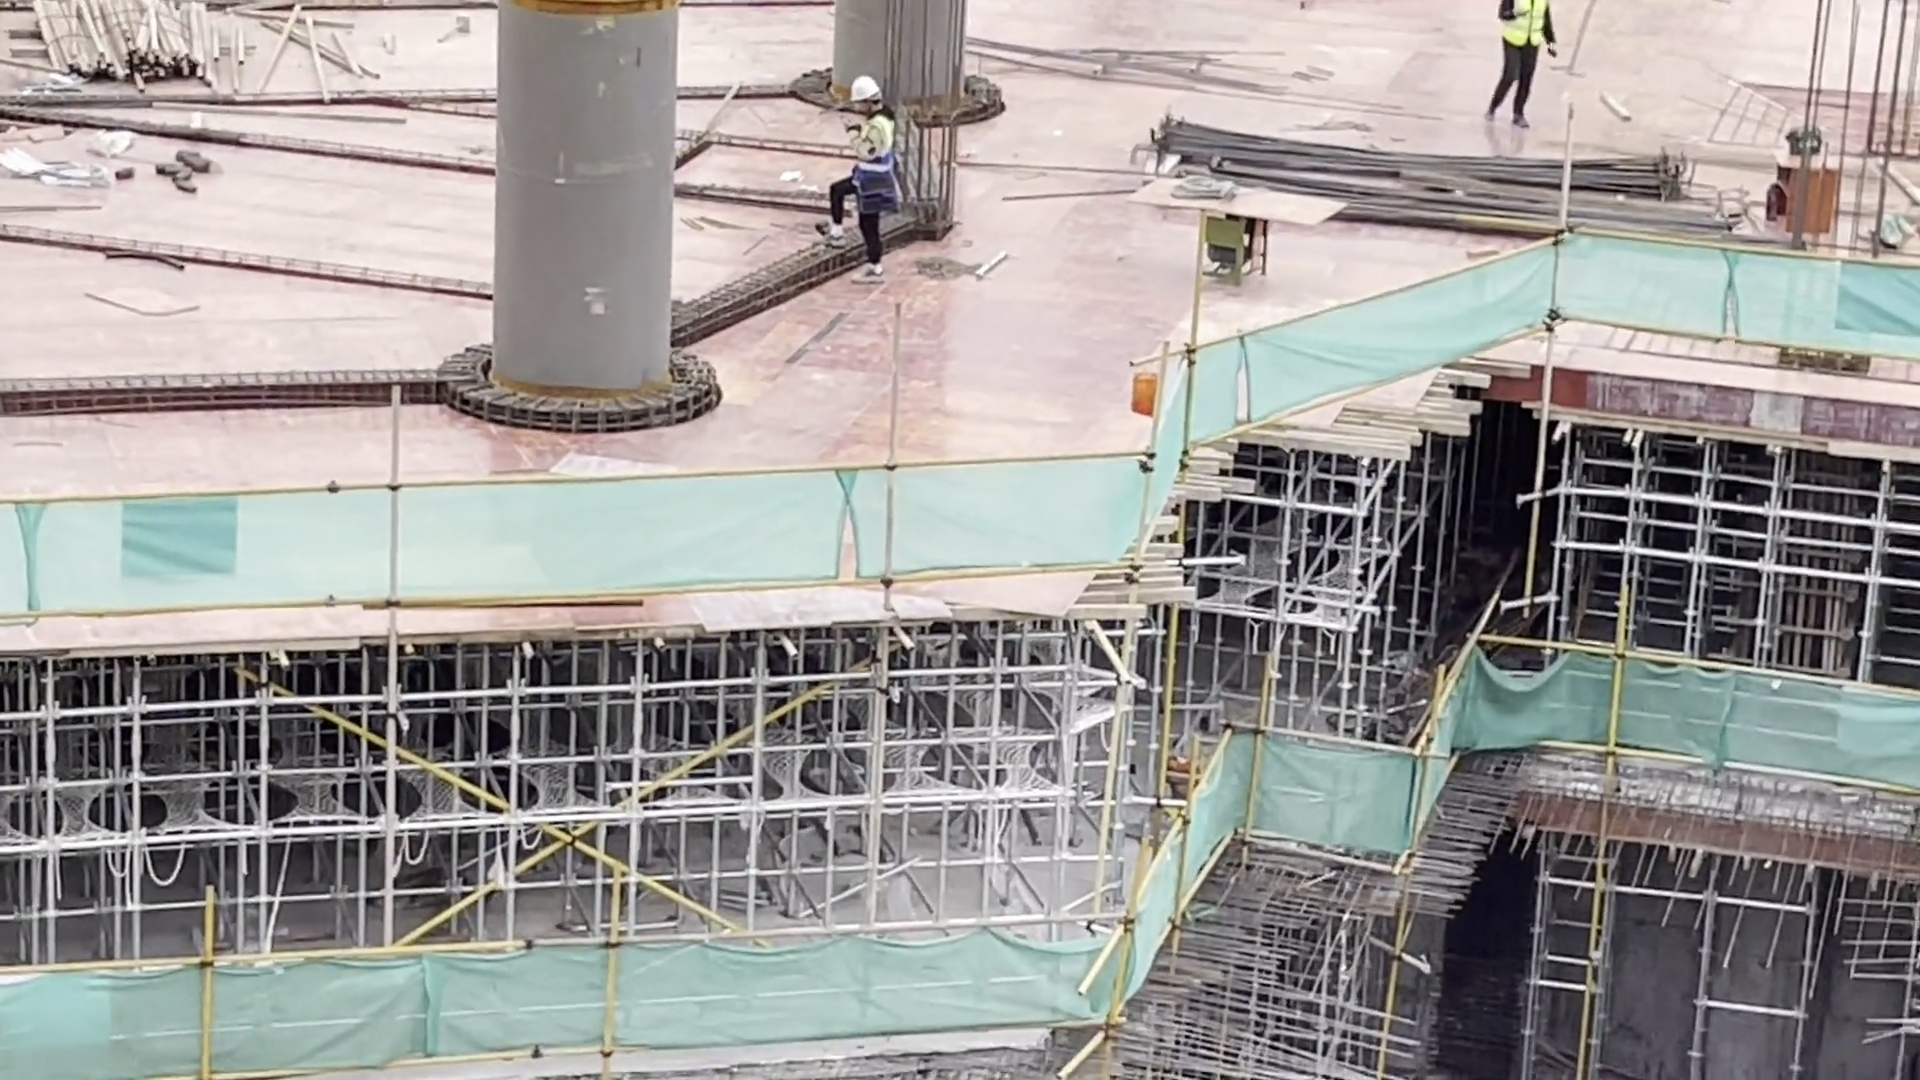helmet: (837, 78, 890, 100)
person: (822, 77, 896, 288), (1492, 2, 1561, 134)
rebar: (1156, 96, 1723, 241)
vest: (845, 123, 903, 192), (1506, 4, 1551, 55)
